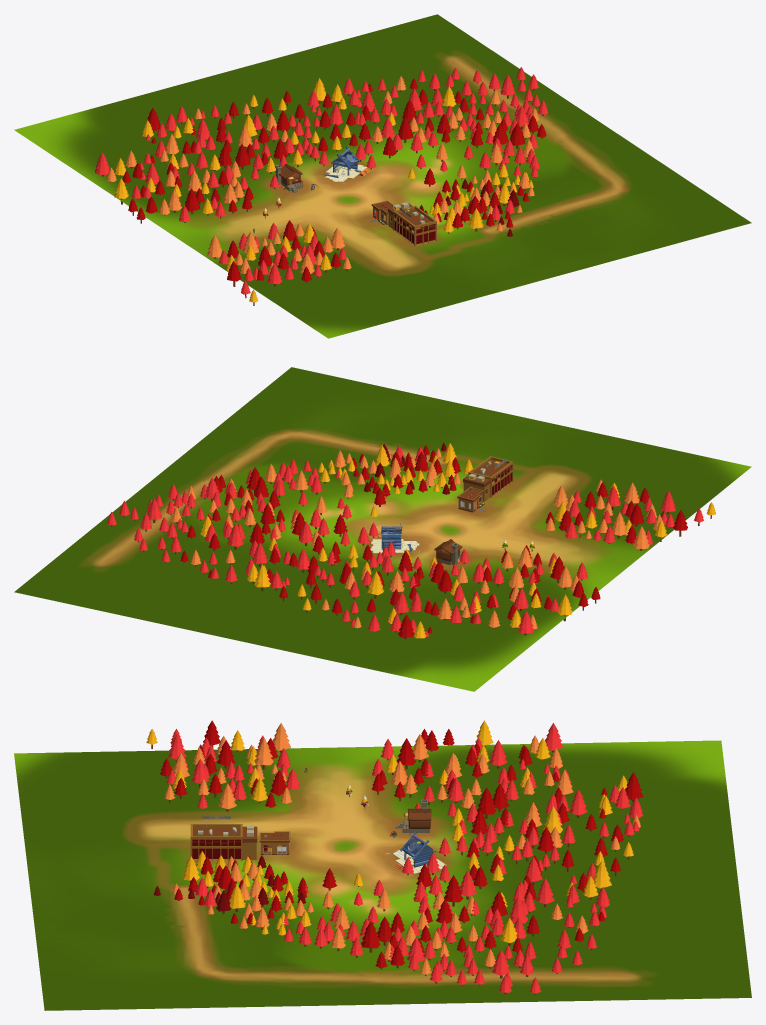
File: köy_sahne (1).fbx
The picture shows the model from 3 angles, top to bottom: view 1: azimuth 30°, elevation 25°; view 2: azimuth 150°, elevation 25°; view 3: azimuth 270°, elevation 25°; orthographic projection. The views are drawn at different scales.
Parts seen in each view (by area): view 1: agac.343; view 2: agac.343; view 3: agac.343.
Boxes of the visible parts, x1=… form: agac.343: x1=14, y1=14, x2=751, y2=338; agac.343: x1=14, y1=367, x2=751, y2=691; agac.343: x1=14, y1=720, x2=751, y2=1010.
Bounding box in the file's own units: 11681 × 782 × 13475.
